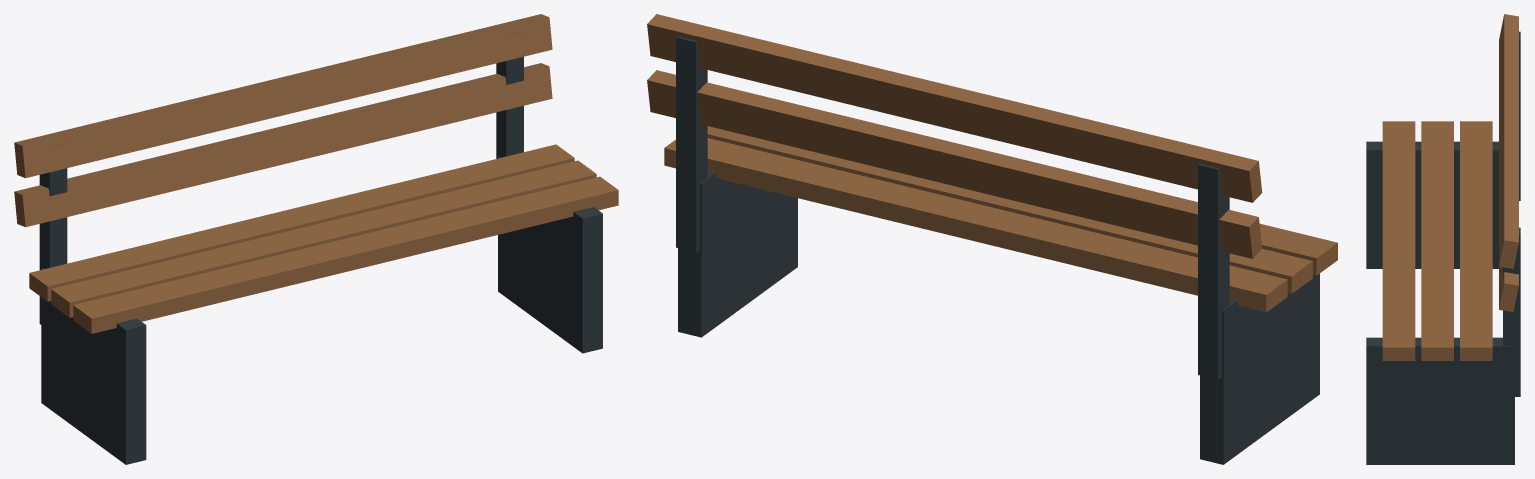
The model's file is bench.glb.
3 views of the same model, side by side, from view 1: azimuth 30°, elevation 25°; view 2: azimuth 150°, elevation 25°; view 3: azimuth 270°, elevation 25° (orthographic). The views are drawn at different scales.
Parts seen in each view (by area): view 1: bench; view 2: bench; view 3: bench.
Boxes of the visible parts, box(x1,y1,x2,y2) form: bench: box(14, 14, 618, 464); bench: box(647, 14, 1337, 464); bench: box(1366, 14, 1520, 464).
Bounding box in the file's own units: 1.8 × 0.8737 × 0.5199.
